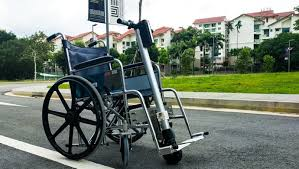wheelchair: (42, 17, 199, 161)
